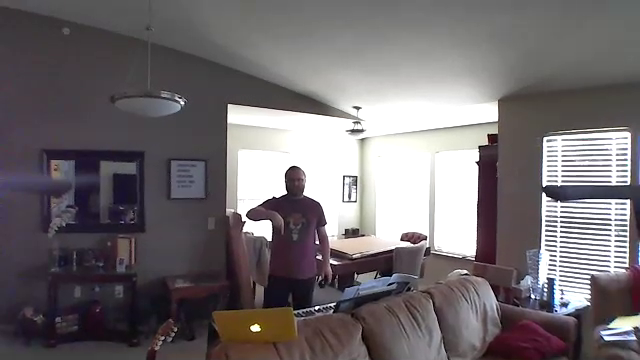down: (269, 207, 287, 239)
